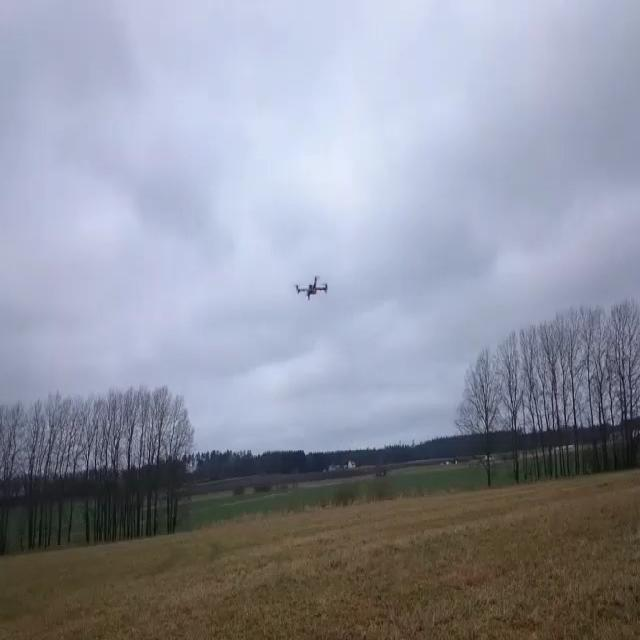drone: (296, 275, 328, 301)
